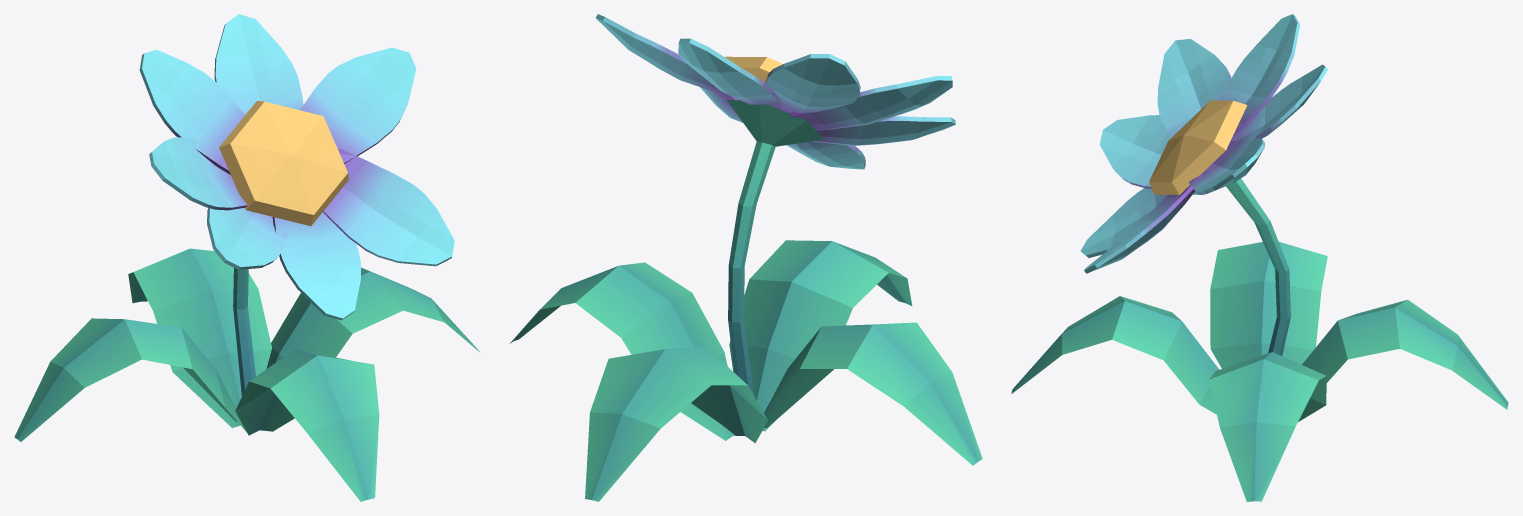
The model's file is flower003.obj.
3 renders of one model, left to right at view 1: azimuth 30°, elevation 25°; view 2: azimuth 150°, elevation 25°; view 3: azimuth 270°, elevation 25°, orthographic. The views are drawn at different scales.
Parts seen in each view (by area): view 1: flower.003; view 2: flower.003; view 3: flower.003.
Part boxes in pixels (x1=…): flower.003: x1=14, y1=14, x2=479, y2=501; flower.003: x1=510, y1=14, x2=982, y2=501; flower.003: x1=1011, y1=14, x2=1508, y2=501.
Bounding box in the file's own units: 2.12 × 1.76 × 2.15.
Materials: 1 (1 with a texture image).
